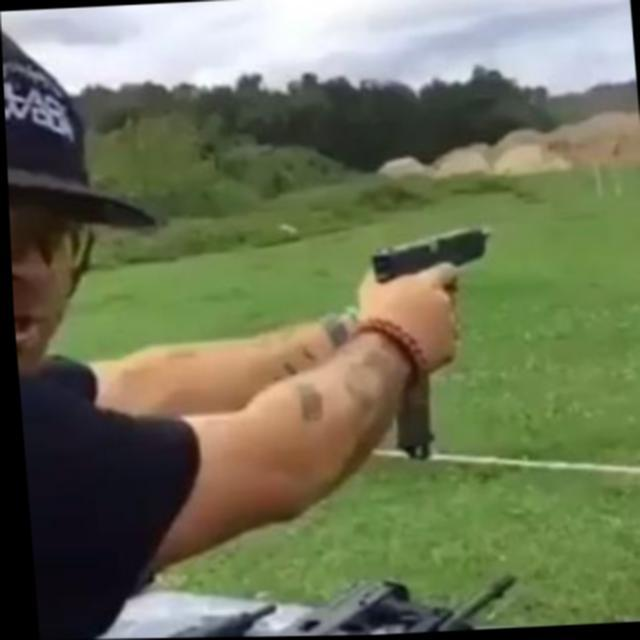weapon: (359, 217, 528, 470)
